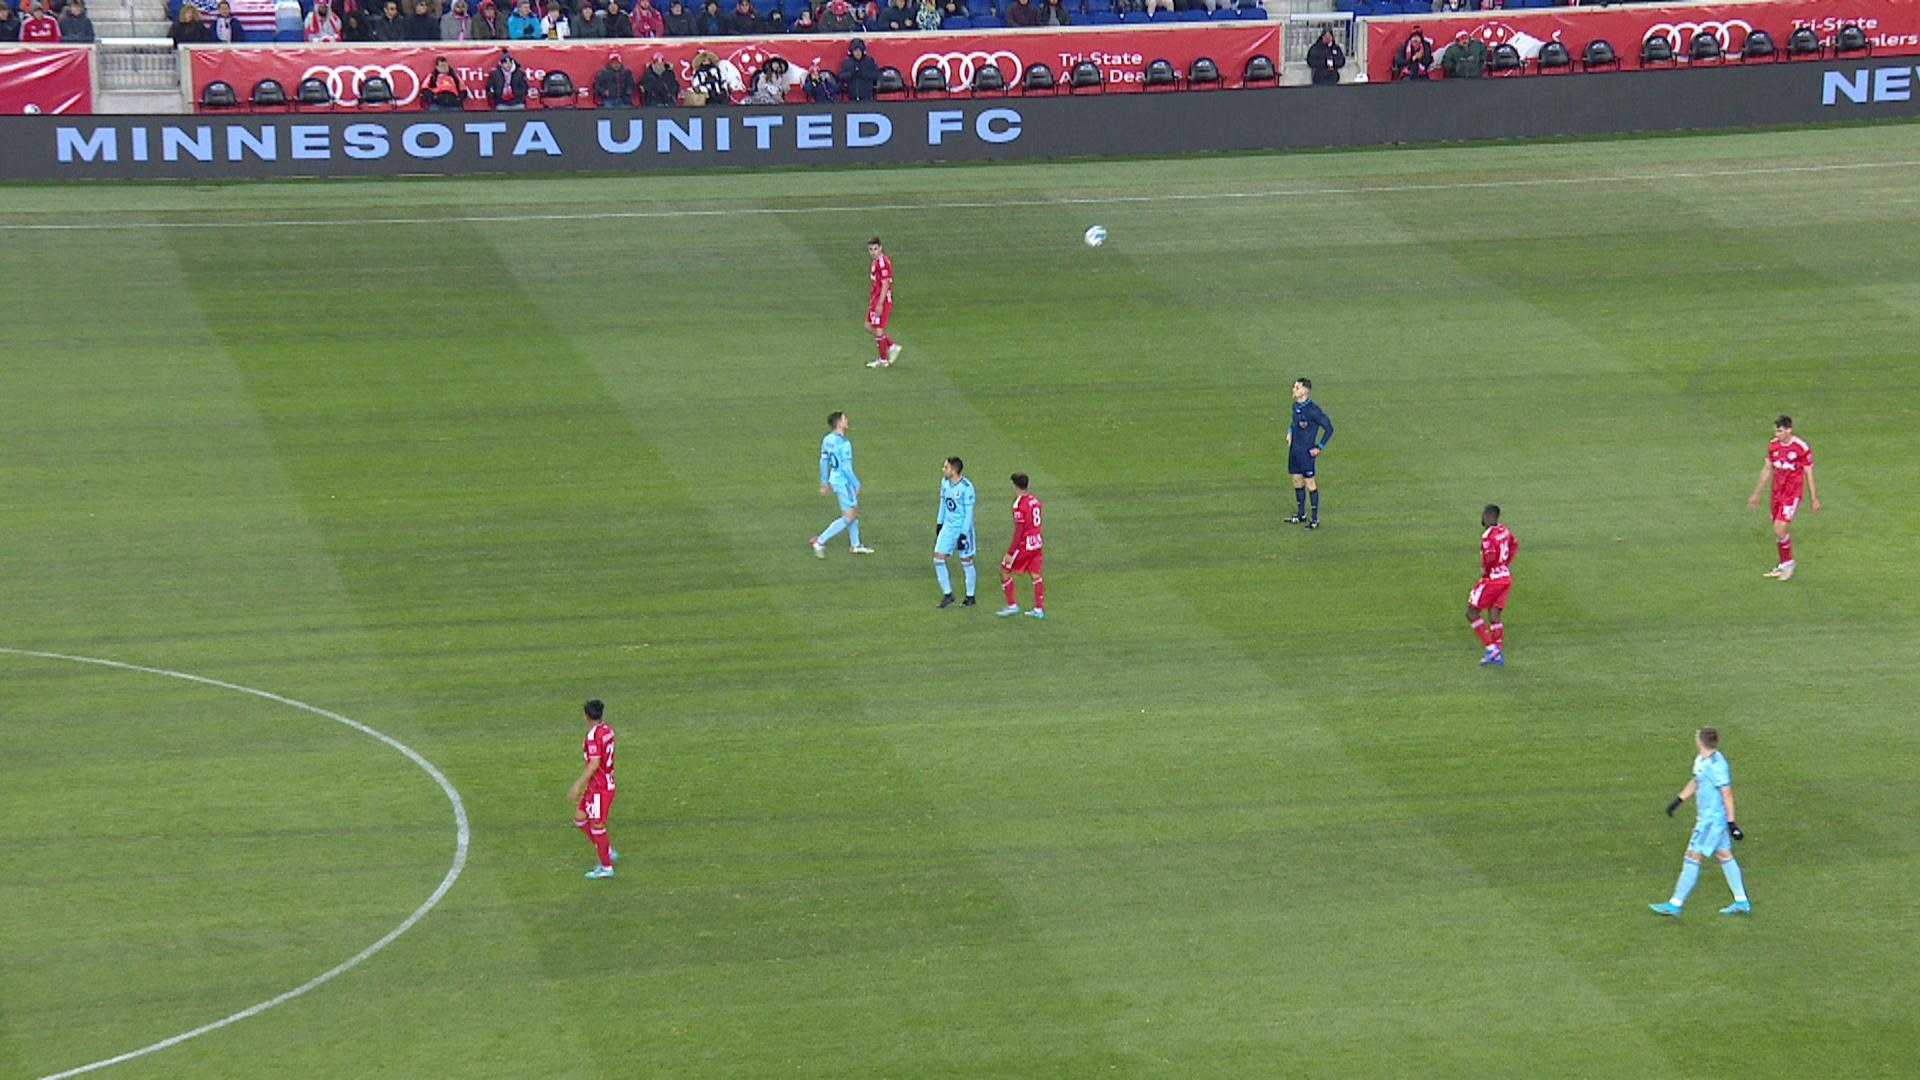football: (1083, 224, 1108, 251)
